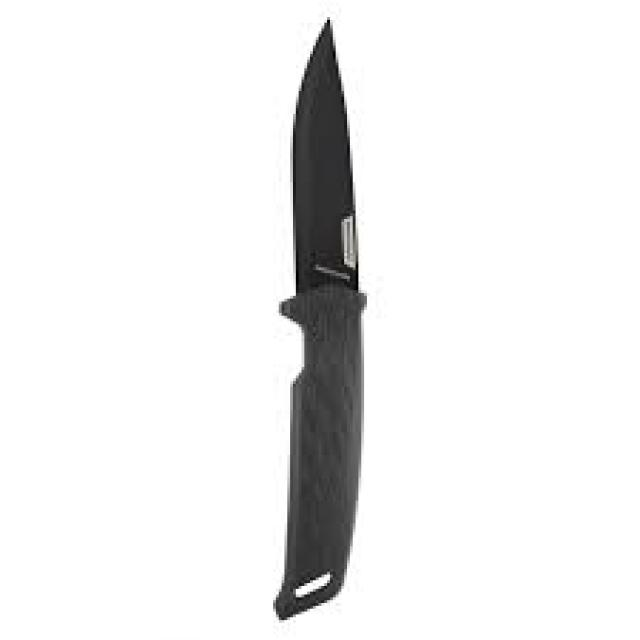knife: (267, 10, 402, 631)
